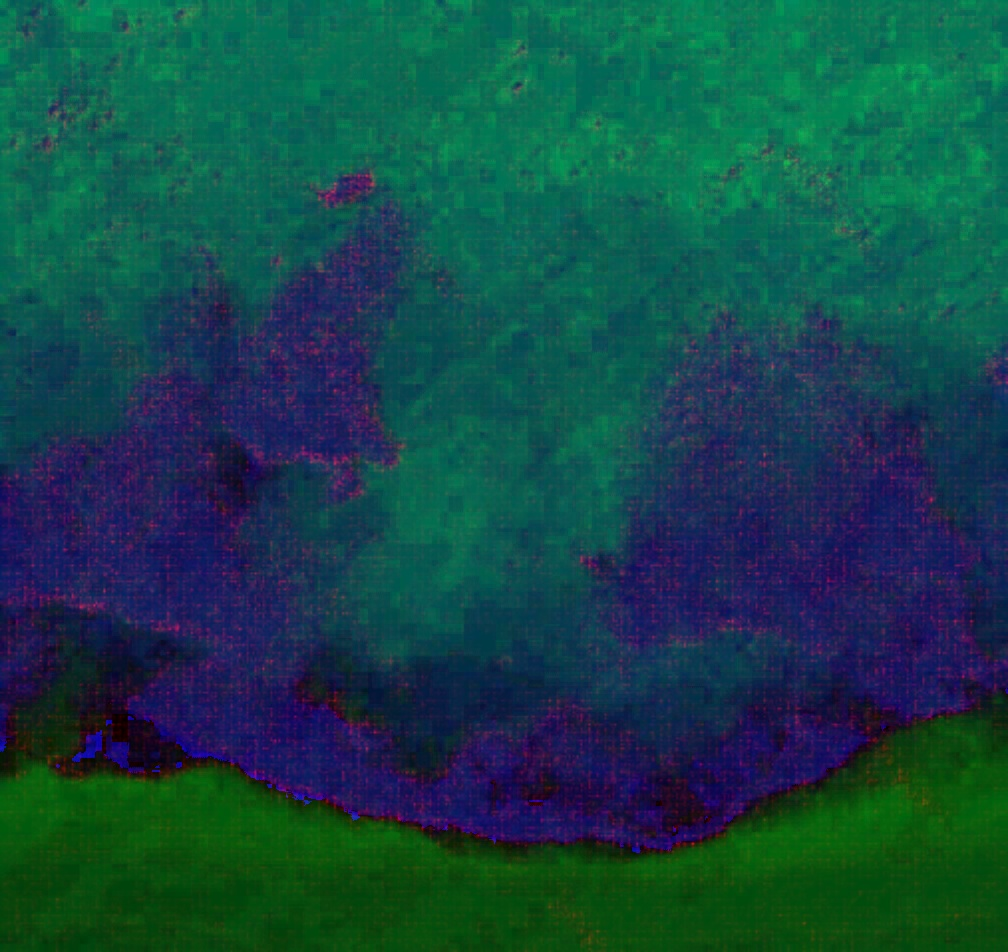rip_current: (294, 184, 668, 726)
